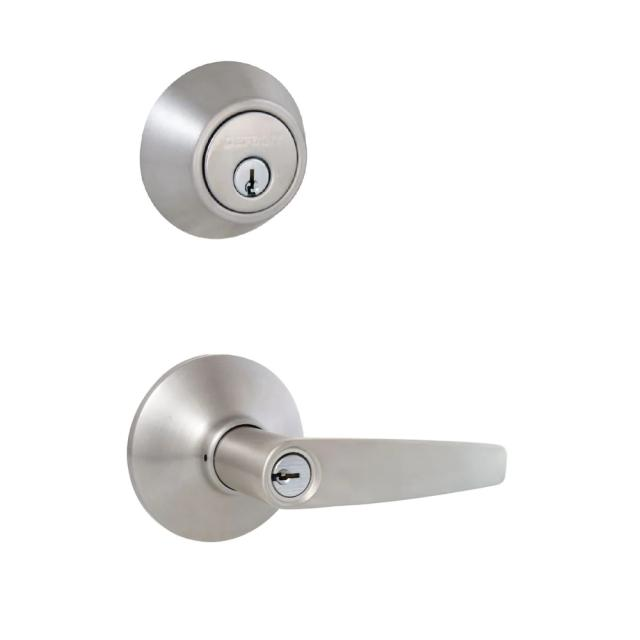door-handle: (129, 355, 506, 541)
